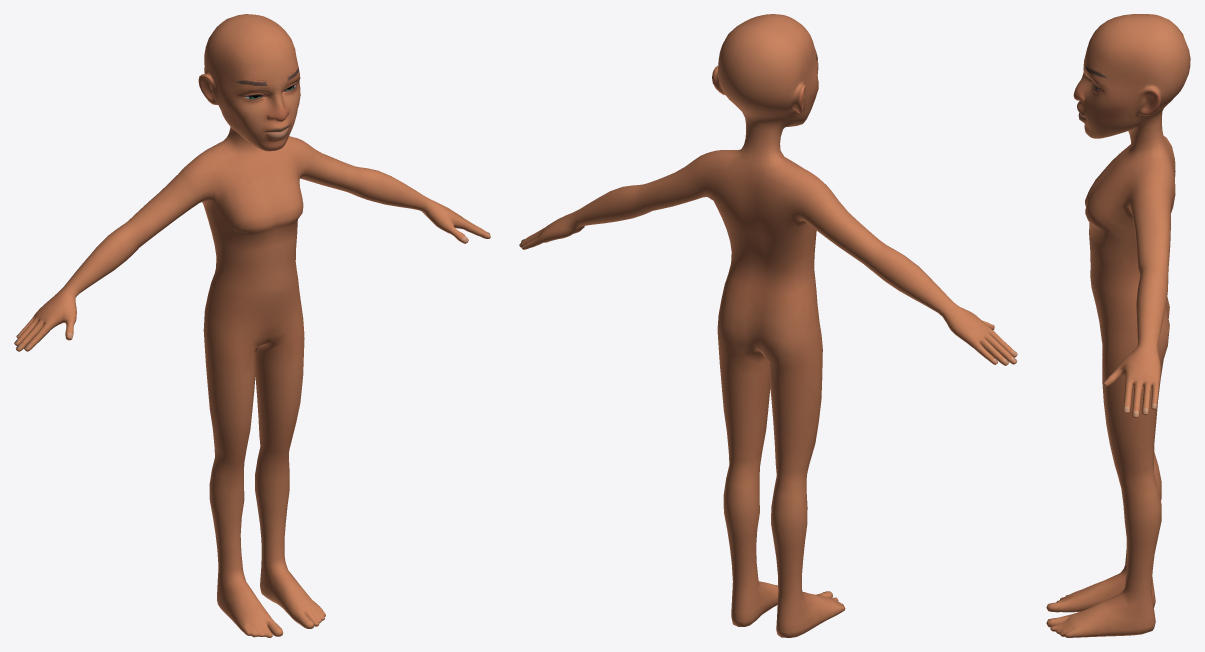
The model's file is frame_0018.glb.
3 renders of one model, left to right at view 1: azimuth 30°, elevation 25°; view 2: azimuth 150°, elevation 25°; view 3: azimuth 270°, elevation 25°, orthographic. The views are drawn at different scales.
Parts seen in each view (by area): view 1: frame_0018_head_geo; view 2: frame_0018_head_geo; view 3: frame_0018_head_geo.
Boxes of the visible parts, x1=… form: frame_0018_head_geo: x1=14, y1=14, x2=490, y2=637; frame_0018_head_geo: x1=519, y1=14, x2=1017, y2=637; frame_0018_head_geo: x1=1046, y1=14, x2=1190, y2=637.
Bounding box in the file's own units: 1.28 × 1.5 × 0.3253.
Materials: 3 (3 with a texture image).
